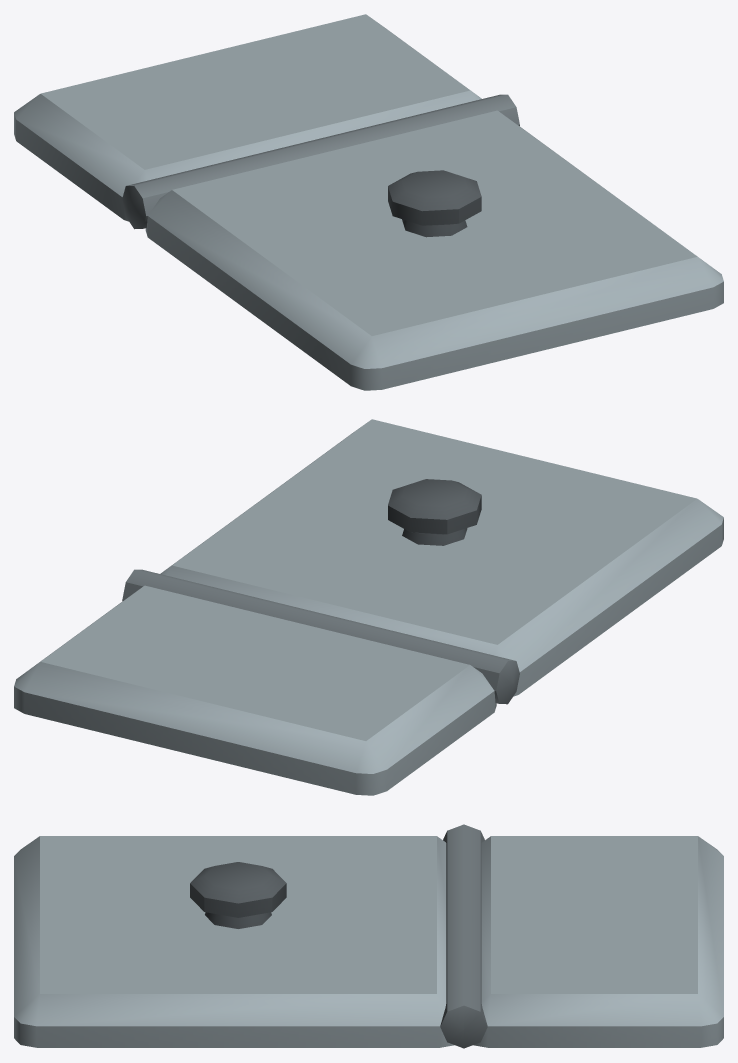
File: icecream_container_top.gltf
3 views of the same model, one above another, from view 1: azimuth 30°, elevation 25°; view 2: azimuth 150°, elevation 25°; view 3: azimuth 270°, elevation 25° (orthographic).
Visible parts, largest first — view 1: icecream_container_top_lid, icecream_container_top; view 2: icecream_container_top_lid, icecream_container_top; view 3: icecream_container_top_lid, icecream_container_top.
Part boxes in pixels (x1=…): icecream_container_top_lid: x1=145, y1=110, x2=723, y2=390; icecream_container_top: x1=14, y1=14, x2=519, y2=229; icecream_container_top_lid: x1=160, y1=419, x2=723, y2=696; icecream_container_top: x1=14, y1=569, x2=519, y2=795; icecream_container_top_lid: x1=14, y1=836, x2=454, y2=1047; icecream_container_top: x1=440, y1=824, x2=723, y2=1048.
Bounding box in the file's own units: 0.9275 × 0.1904 × 1.49.
Materials: 1 (1 with a texture image).
